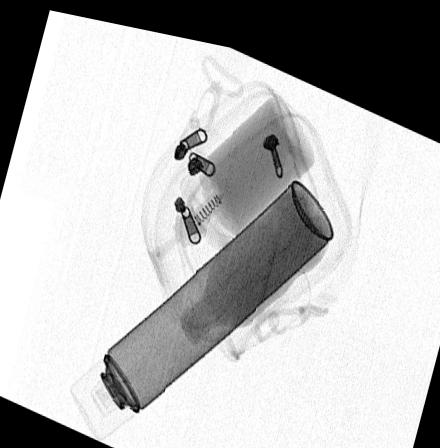Sprayer: (69, 167, 332, 436)
